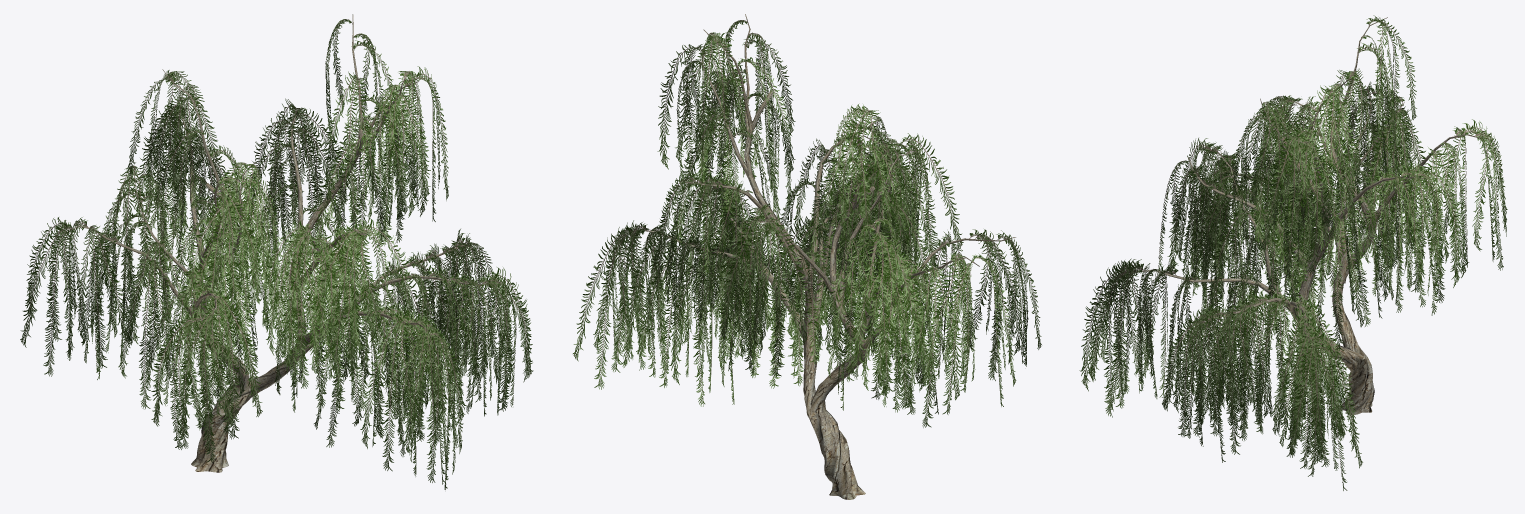
Rendered from tree_willow.glb.
The picture shows the model from 3 angles, left to right: view 1: azimuth 30°, elevation 25°; view 2: azimuth 150°, elevation 25°; view 3: azimuth 270°, elevation 25°; orthographic projection. The views are drawn at different scales.
Visible parts, largest first — view 1: m; view 2: m; view 3: m.
Part boxes in pixels (x1=…): m: x1=20, y1=14, x2=533, y2=489; m: x1=573, y1=14, x2=1041, y2=499; m: x1=1079, y1=15, x2=1507, y2=490.
Bounding box in the file's own units: 1.13 × 1 × 0.9869.
Materials: 2 (2 with a texture image).
